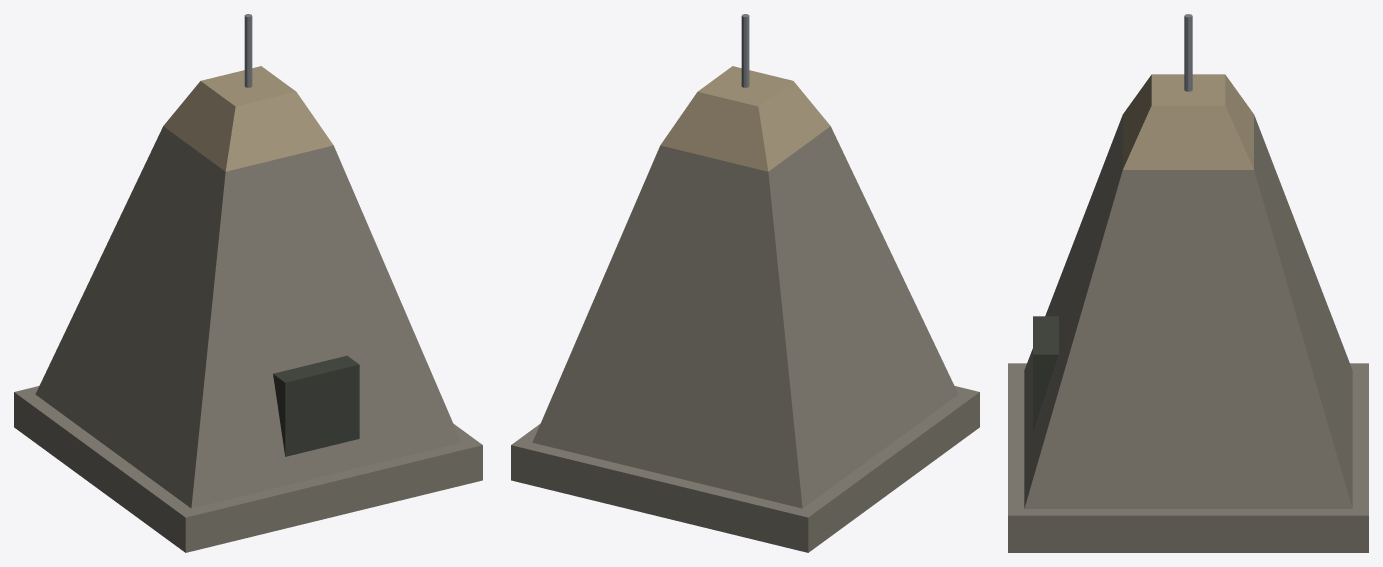
Rendered from RF_Structure_FlagTower_Intact.glb.
3 renders of one model, left to right at view 1: azimuth 30°, elevation 25°; view 2: azimuth 150°, elevation 25°; view 3: azimuth 270°, elevation 25°, orthographic. The views are drawn at different scales.
Visible parts, largest first — view 1: RF_Structure_FlagTower_Intact; view 2: RF_Structure_FlagTower_Intact; view 3: RF_Structure_FlagTower_Intact.
Boxes of the visible parts, left/top/right/bottom form: RF_Structure_FlagTower_Intact: left=14, top=14, right=482, bottom=552; RF_Structure_FlagTower_Intact: left=511, top=14, right=979, bottom=552; RF_Structure_FlagTower_Intact: left=1008, top=14, right=1368, bottom=552.
Size of the model in its own units: 4.4 by 6.2 by 4.4.
